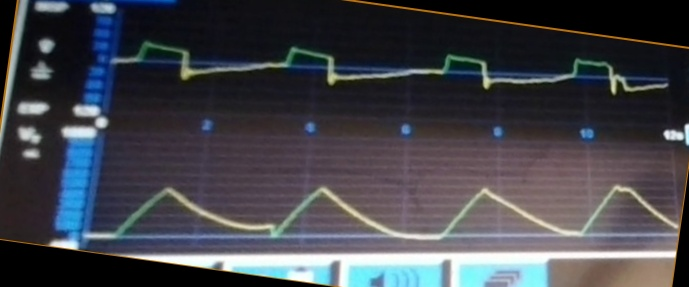Premature_cycling Flow: (117, 38, 668, 118)
Premature_cycling Volume: (95, 181, 676, 246)
